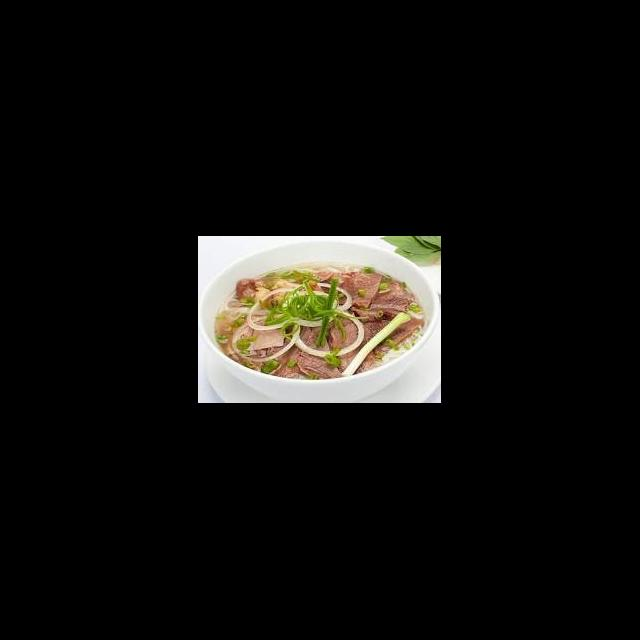thit bo: (328, 314, 424, 378), (314, 270, 424, 320), (266, 318, 344, 384), (228, 302, 286, 354), (234, 276, 282, 306)
